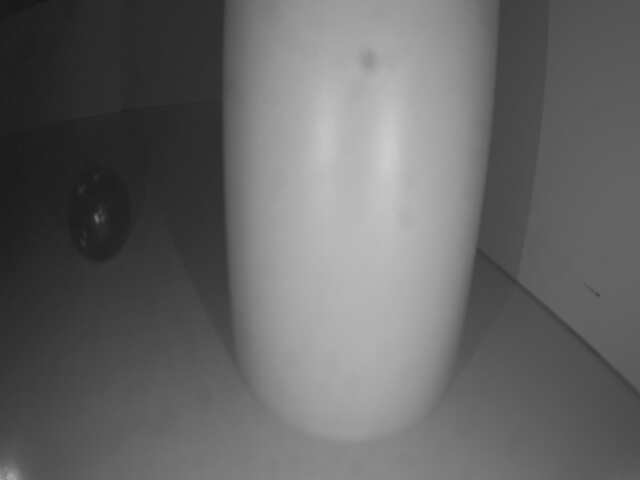Dead: (66, 171, 134, 264)
